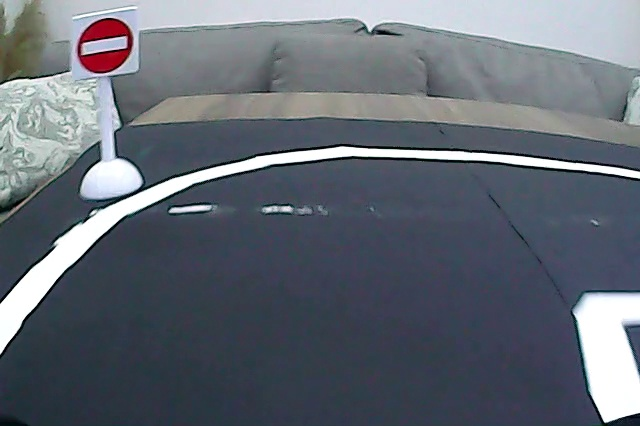do not enter: (72, 13, 137, 76)
